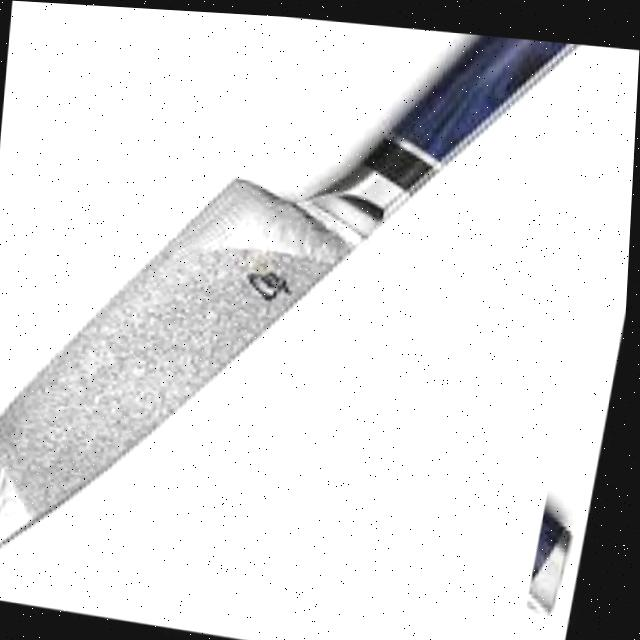knife: (0, 0, 615, 633)
